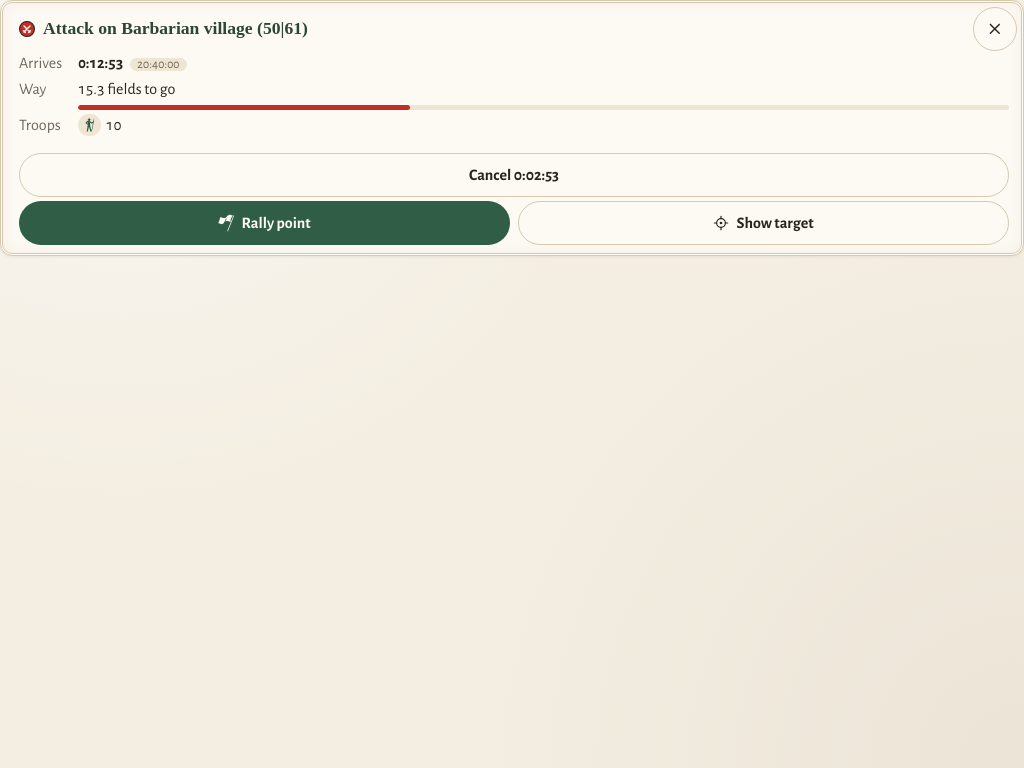
Scenario: LinePanel › asks before cancelling, as the rally point does
Click the button "Cancel 0:02:53". click: (514, 175)
box: [19,153,1009,197]
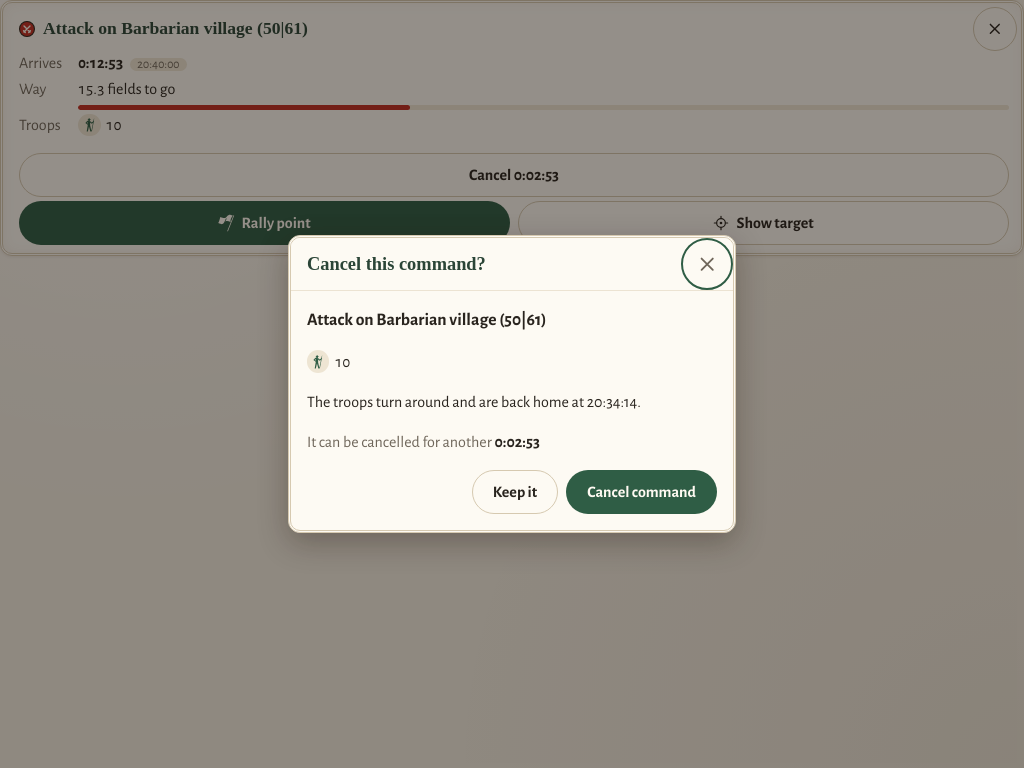
Expected: the dialog "Cancel this command?" is shown, [288,235,736,533]
Expected: the button "Cancel command" is shown, [566,470,717,514]
